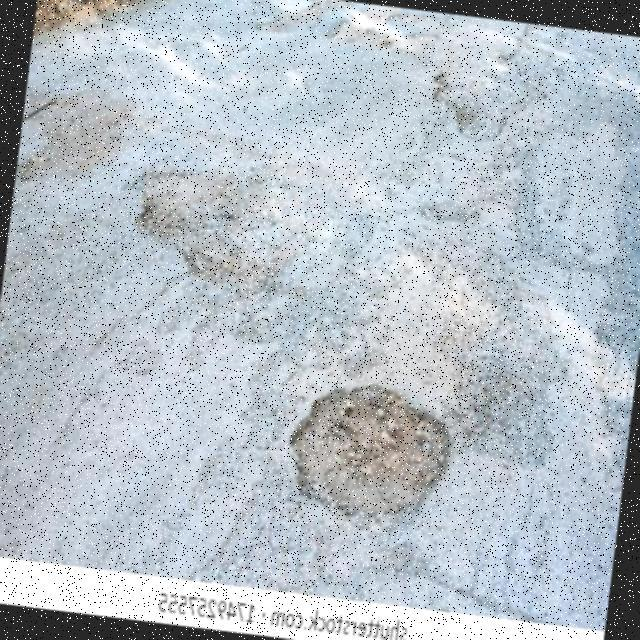Pothole: (288, 390, 451, 521), (131, 170, 240, 283), (431, 75, 504, 142)
